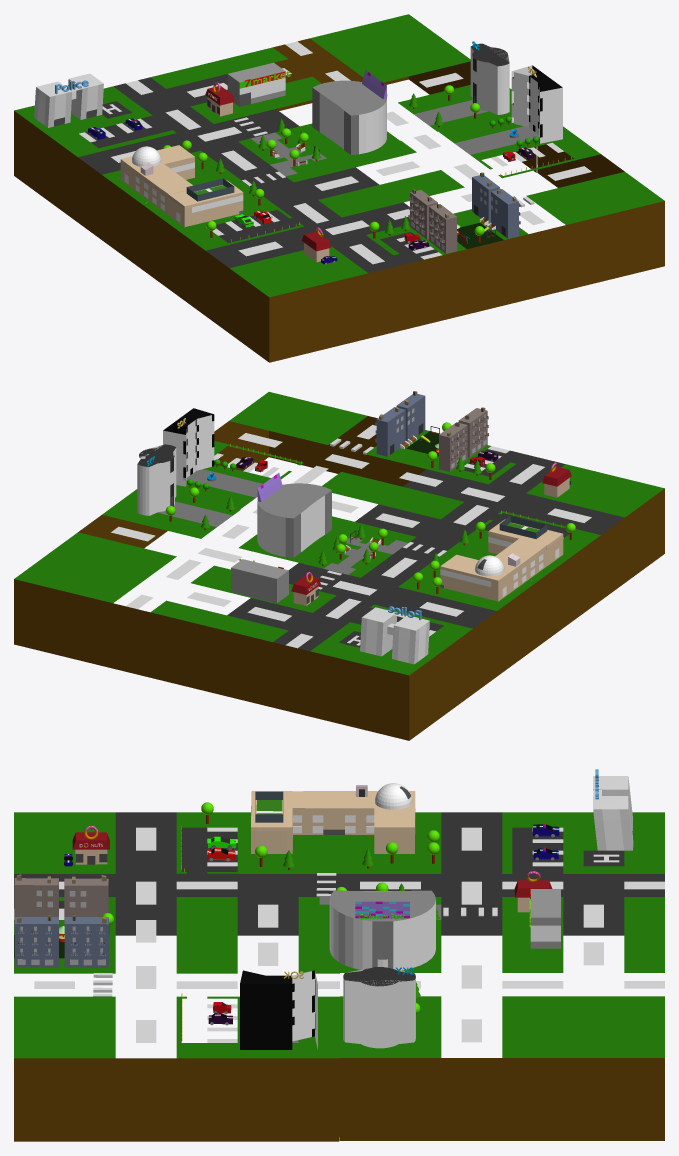
3 views of the same model, one above another, from view 1: azimuth 30°, elevation 25°; view 2: azimuth 150°, elevation 25°; view 3: azimuth 270°, elevation 25° (orthographic). The views are drawn at different scales.
Size of the model in its own units: 217 by 64.05 by 243.
